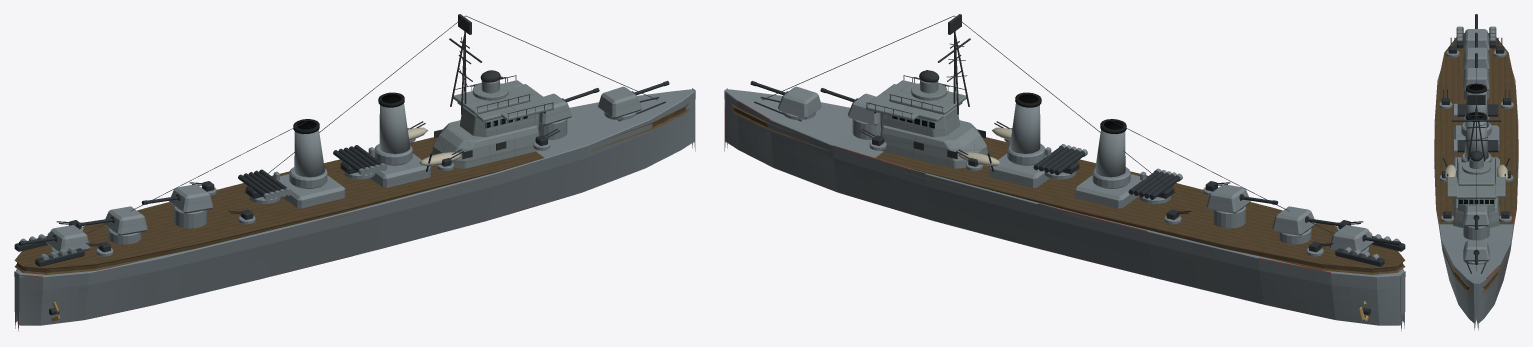
Rendered from destroyer-classic.glb.
3 views of the same model, side by side, from view 1: azimuth 30°, elevation 25°; view 2: azimuth 150°, elevation 25°; view 3: azimuth 270°, elevation 25° (orthographic). The views are drawn at different scales.
Visible parts, largest first — view 1: Fletcher_V3_Hull, Fletcher_V3_Main_Deck, Fletcher_V5_Bridge_Core, Fletcher_V3_Funnel_1, Fletcher_V3_Funnel_2, Fletcher_V3_Funnel_Deckhouse_2, Fletcher_V5_Pilothouse, Fletcher_V3_Funnel_Deckhouse_1, Fletcher_V5_Open_Bridge, Fletcher_V3_Main_1_Gunhouse, Fletcher_V3_Main_4_Gunhouse, Fletcher_V3_Main_3_Gunhouse (+6 smaller); view 2: Fletcher_V3_Hull, Fletcher_V3_Main_Deck, Fletcher_V5_Bridge_Core, Fletcher_V3_Funnel_1, Fletcher_V3_Funnel_2, Fletcher_V3_Funnel_Deckhouse_2, Fletcher_V5_Pilothouse, Fletcher_V3_Funnel_Deckhouse_1, Fletcher_V5_Open_Bridge, Fletcher_V3_Main_1_Gunhouse, Fletcher_V3_Main_4_Gunhouse, Fletcher_V3_Main_3_Gunhouse (+6 smaller); view 3: Fletcher_V3_Main_Deck, Fletcher_V3_Hull, Fletcher_V3_Funnel_1, Fletcher_V5_Pilothouse_Brow, Fletcher_V5_Open_Bridge, Fletcher_V3_Main_1_Gunhouse, Fletcher_V3_Main_2_Gunhouse, Fletcher_V3_Main_4_Gunhouse, Fletcher_V5_Bridge_Core, Fletcher_V3_Main_3_Gunhouse, Fletcher_V3_Main_5_Gunhouse, Fletcher_V3_Main_2_Seat (+24 smaller).
Part boxes in pixels (<box>): Fletcher_V3_Hull: <box>14,88,695,331</box>; Fletcher_V3_Main_Deck: <box>14,103,689,274</box>; Fletcher_V5_Bridge_Core: <box>432,120,539,168</box>; Fletcher_V3_Funnel_1: <box>379,103,410,153</box>; Fletcher_V3_Funnel_2: <box>294,130,324,177</box>; Fletcher_V3_Funnel_Deckhouse_2: <box>278,174,345,208</box>; Fletcher_V5_Pilothouse: <box>460,106,539,137</box>; Fletcher_V3_Funnel_Deckhouse_1: <box>370,153,430,187</box>; Fletcher_V5_Open_Bridge: <box>453,82,530,114</box>; Fletcher_V3_Main_1_Gunhouse: <box>598,86,641,118</box>; Fletcher_V3_Main_4_Gunhouse: <box>103,206,147,235</box>; Fletcher_V3_Main_3_Gunhouse: <box>169,184,213,213</box>; Fletcher_V3_Hull: <box>724,88,1405,331</box>; Fletcher_V3_Main_Deck: <box>730,101,1405,274</box>; Fletcher_V5_Bridge_Core: <box>880,120,987,168</box>; Fletcher_V3_Funnel_1: <box>1009,103,1040,153</box>; Fletcher_V3_Funnel_2: <box>1095,130,1125,177</box>; Fletcher_V3_Funnel_Deckhouse_2: <box>1074,174,1141,208</box>; Fletcher_V5_Pilothouse: <box>880,106,959,137</box>; Fletcher_V3_Funnel_Deckhouse_1: <box>989,153,1049,187</box>; Fletcher_V5_Open_Bridge: <box>889,82,966,114</box>; Fletcher_V3_Main_1_Gunhouse: <box>778,86,821,118</box>; Fletcher_V3_Main_4_Gunhouse: <box>1272,206,1316,235</box>; Fletcher_V3_Main_3_Gunhouse: <box>1206,184,1250,213</box>; Fletcher_V3_Main_Deck: <box>1434,33,1518,292</box>; Fletcher_V3_Hull: <box>1434,72,1518,330</box>; Fletcher_V3_Funnel_1: <box>1464,121,1488,159</box>; Fletcher_V5_Pilothouse_Brow: <box>1456,170,1496,198</box>; Fletcher_V5_Open_Bridge: <box>1458,162,1494,185</box>; Fletcher_V3_Main_1_Gunhouse: <box>1463,240,1489,261</box>; Fletcher_V3_Main_2_Gunhouse: <box>1463,205,1489,226</box>; Fletcher_V3_Main_4_Gunhouse: <box>1463,47,1489,69</box>; Fletcher_V5_Bridge_Core: <box>1453,197,1499,227</box>; Fletcher_V3_Main_3_Gunhouse: <box>1463,68,1489,90</box>; Fletcher_V3_Main_5_Gunhouse: <box>1463,29,1489,51</box>; Fletcher_V3_Main_2_Seat: <box>1463,225,1489,240</box>.
Bounding box in the file's own units: 31 × 9.03 × 4.23.
Materials: 12 (4 with a texture image).
